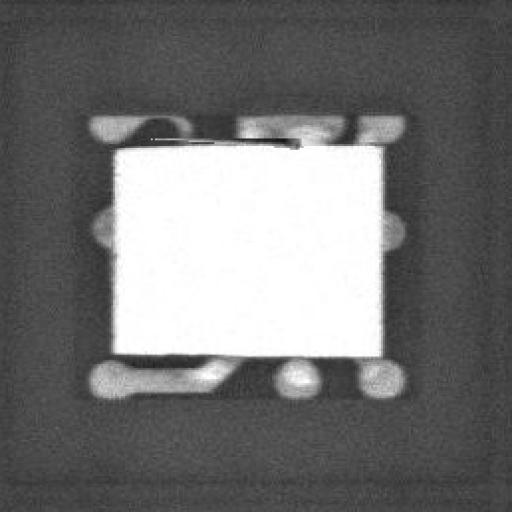DIE_BROKEN: (158, 131, 304, 150)
